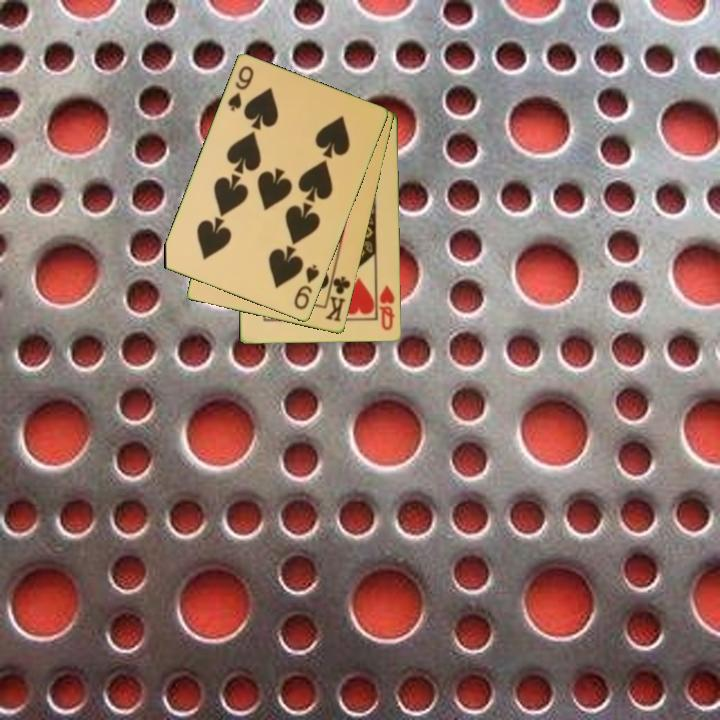9s: (224, 62, 257, 114), (291, 261, 323, 313)
Kc: (322, 269, 354, 325)
Qh: (376, 282, 398, 333)
